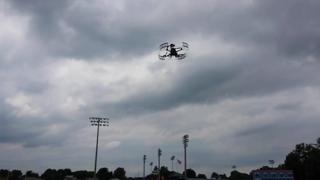UAV: (158, 42, 189, 60)
